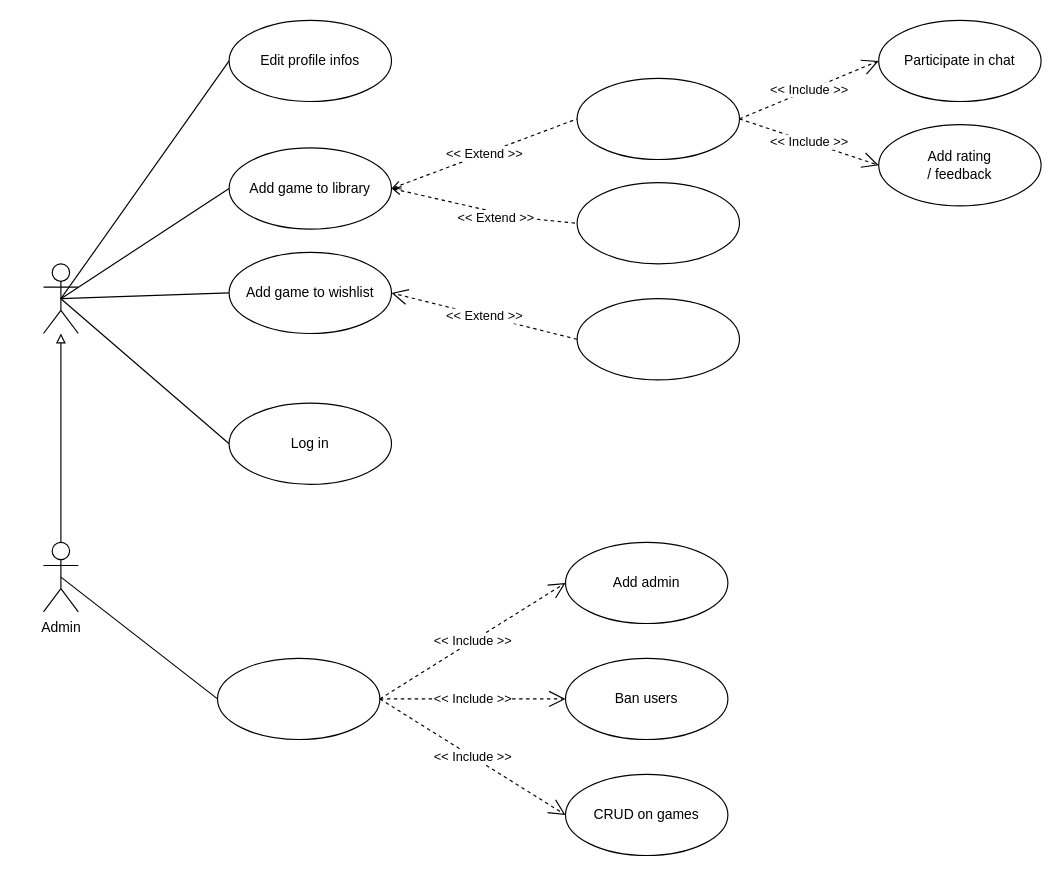
This 1061x876 diagram has some shape labels left out. The centre of each missing label's shape, as x and y in pixels:
access game page: the point at 658,118
Delete game from library: the point at 658,223
Delete game from Wishlist: the point at 658,339
See dashboard: the point at 298,698
Website user: the point at 60,298
